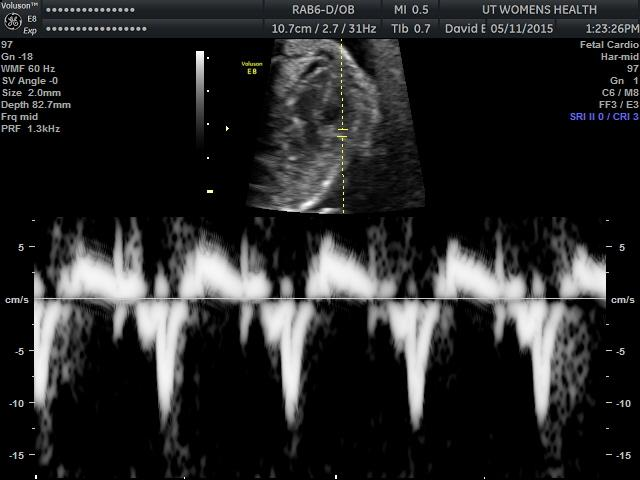Ultrasound-Waves: (37, 213, 605, 469)
